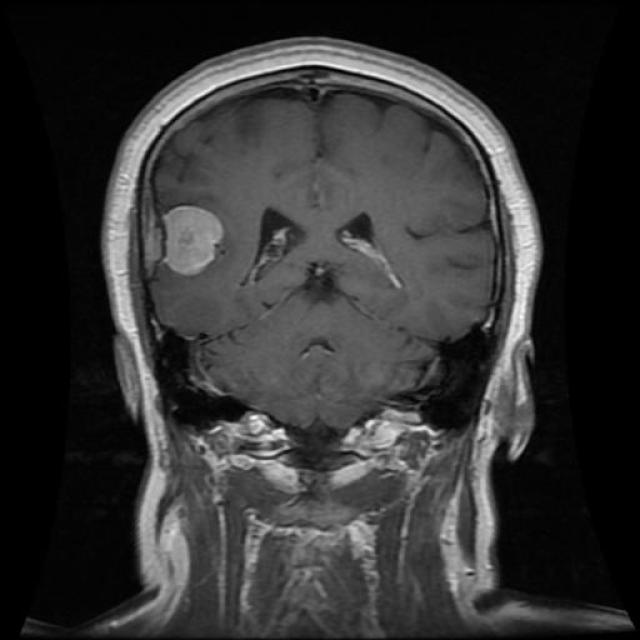meningioma: (164, 206, 224, 276)
